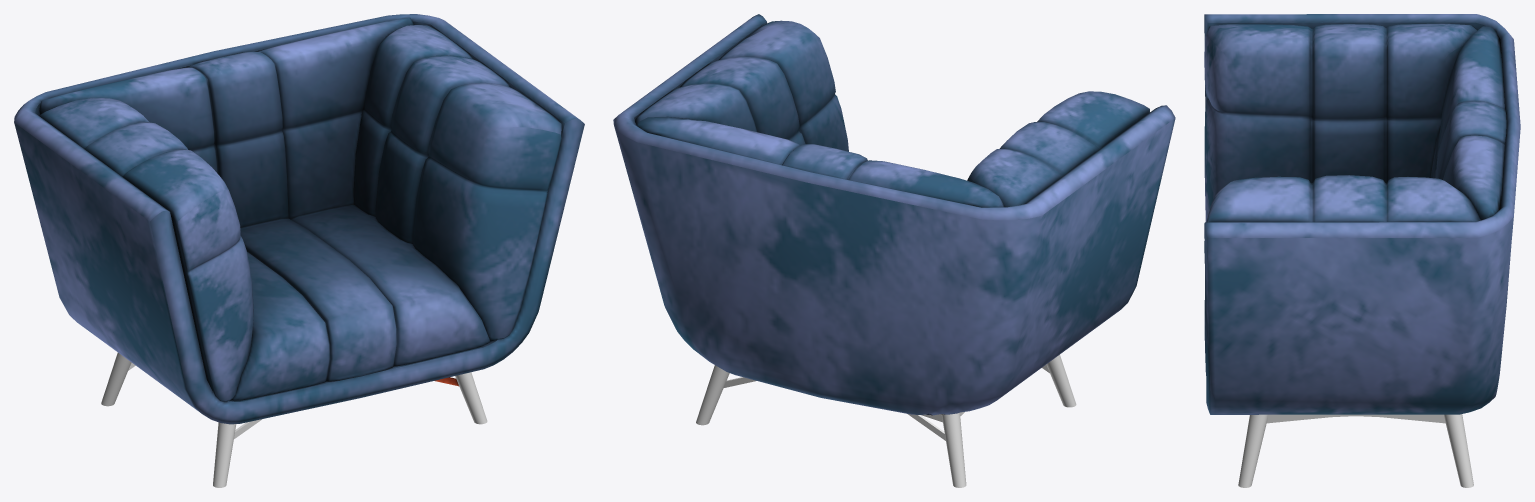
File: copeland_accent.fbx
The picture shows the model from 3 angles, left to right: view 1: azimuth 30°, elevation 25°; view 2: azimuth 150°, elevation 25°; view 3: azimuth 270°, elevation 25°; orthographic projection.
Parts seen in each view (by area): view 1: Copeland_Accent_chair; view 2: Copeland_Accent_chair; view 3: Copeland_Accent_chair.
Boxes of the visible parts, <box> form: Copeland_Accent_chair: <box>14,14,584,487</box>; Copeland_Accent_chair: <box>613,14,1175,487</box>; Copeland_Accent_chair: <box>1204,14,1520,487</box>.
Size of the model in its own units: 1.52 by 1.06 by 0.9602.
